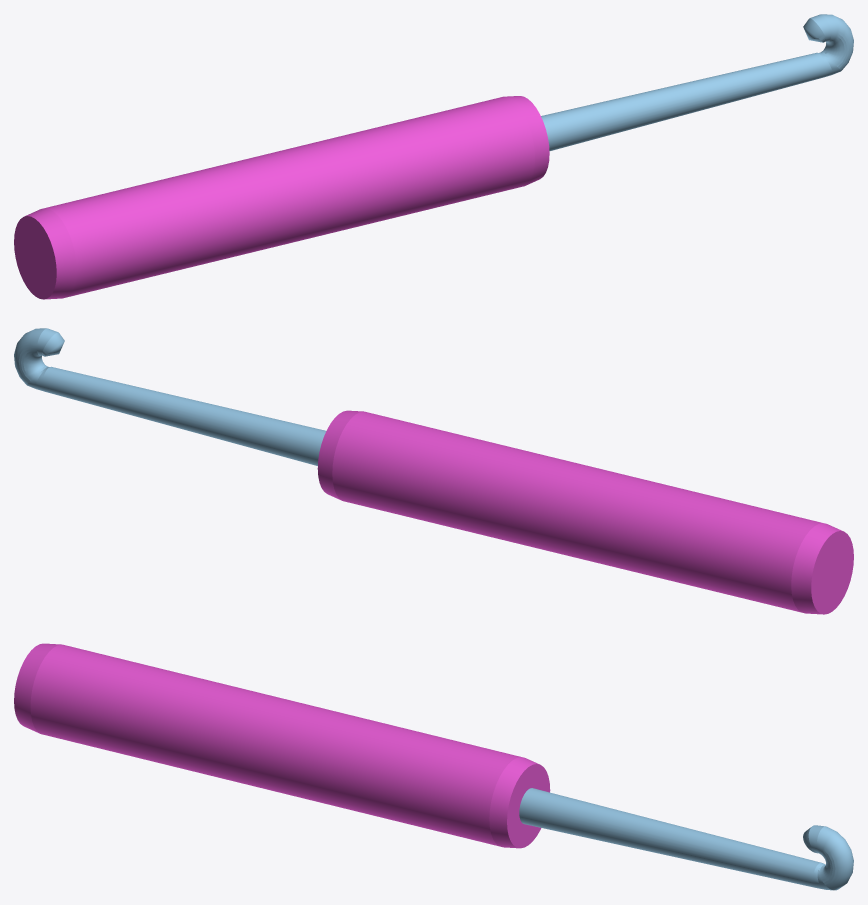
File: crochet_hook.fbx
3 views of the same model, one above another, from view 1: azimuth 30°, elevation 25°; view 2: azimuth 150°, elevation 25°; view 3: azimuth 330°, elevation 25° (orthographic).
Visible parts, largest first — view 1: hook; view 2: hook; view 3: hook.
Boxes of the visible parts, <box> form: hook: <box>14,14,853,299</box>; hook: <box>14,328,853,614</box>; hook: <box>14,643,853,890</box>.
Bounding box in the file's own units: 549 × 53.89 × 59.74.
